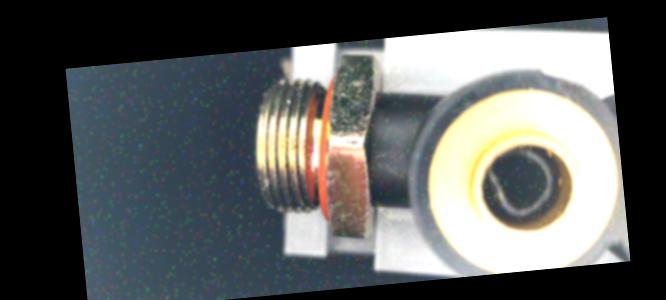bump: (530, 54, 604, 107)
off-centered: (480, 145, 561, 220)
white mark: (378, 155, 409, 183)
